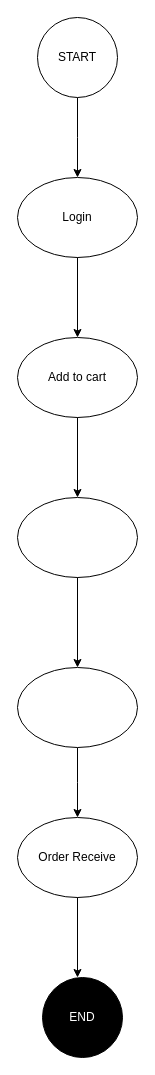
This 155x1075 diagram has some shape labels left out. Here are the shapes that lost their labels. From the top down, the centre of each, then its label:
At point (77, 537): "Select Address".
At point (77, 707): "Make Payment".
